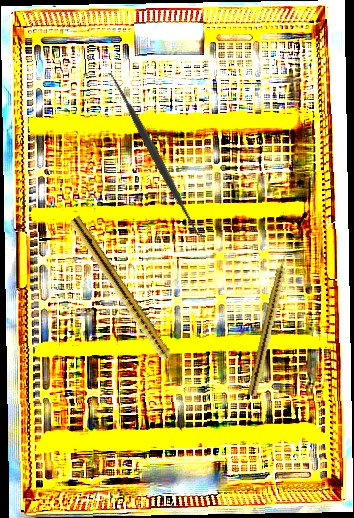Handpiece: (66, 215, 185, 381), (247, 248, 293, 398)
Spatula Surgical: (102, 66, 210, 245)
